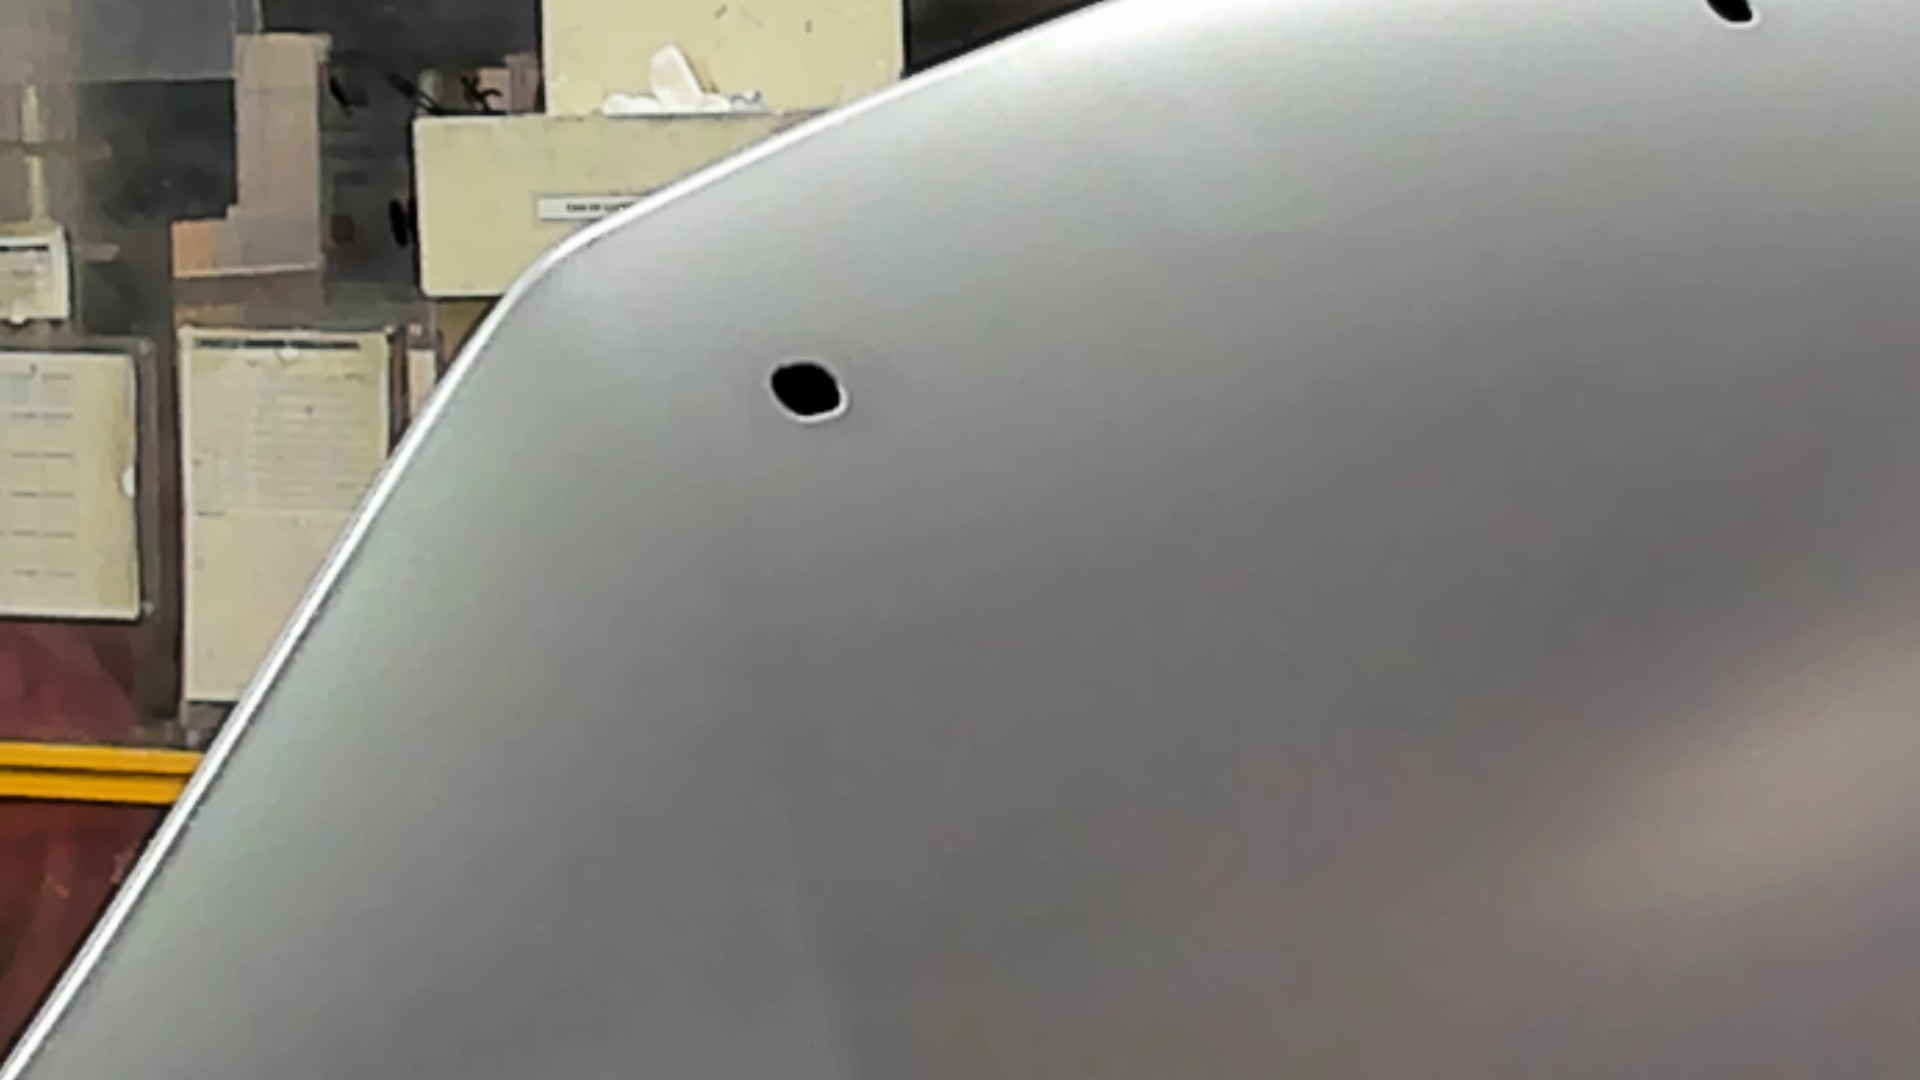amorfo: (761, 349, 857, 429), (1698, 1, 1770, 44)
capo: (928, 116, 1920, 1080)
